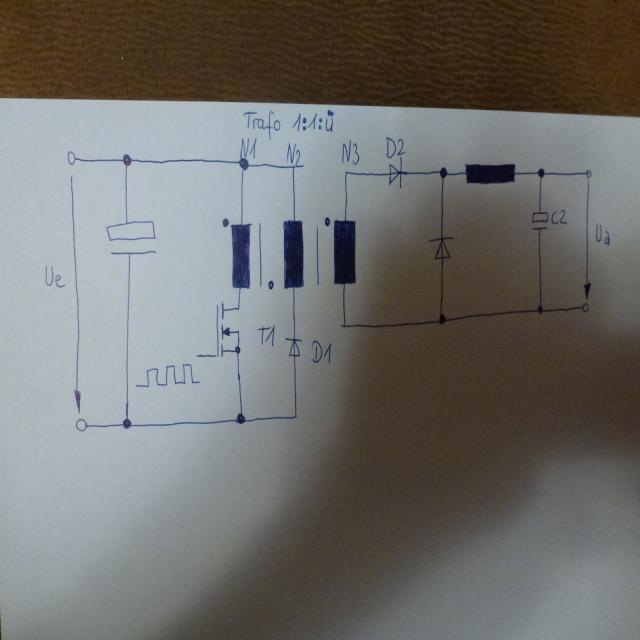capacitor: (102, 217, 158, 257), (530, 209, 550, 230)
diode: (427, 233, 455, 260), (386, 159, 402, 188), (284, 334, 302, 359)
inductor: (464, 157, 519, 186)
junction: (120, 151, 134, 169), (120, 415, 134, 431), (436, 163, 448, 180), (238, 156, 249, 172), (234, 411, 246, 425), (436, 312, 446, 325), (536, 166, 545, 179), (536, 304, 544, 314), (339, 320, 347, 330), (290, 163, 298, 171), (342, 167, 349, 176), (292, 412, 298, 420)
terminal: (72, 416, 89, 434), (65, 148, 78, 168), (192, 349, 202, 362), (580, 301, 590, 313), (584, 168, 593, 179)
text: (236, 109, 338, 136), (310, 338, 334, 366), (42, 262, 64, 288), (340, 138, 360, 166), (383, 135, 406, 159), (284, 140, 302, 167), (257, 324, 276, 348), (593, 222, 611, 246), (240, 134, 255, 159), (548, 208, 568, 225)
transformer: (220, 214, 360, 293)
transistor: (214, 298, 244, 361)
